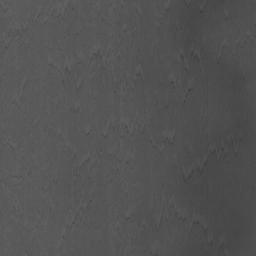Silk spot: (182, 159, 208, 184), (150, 216, 168, 232), (8, 25, 28, 37), (180, 51, 200, 63), (109, 124, 129, 134), (90, 50, 104, 64), (162, 134, 176, 145), (210, 148, 224, 159)
